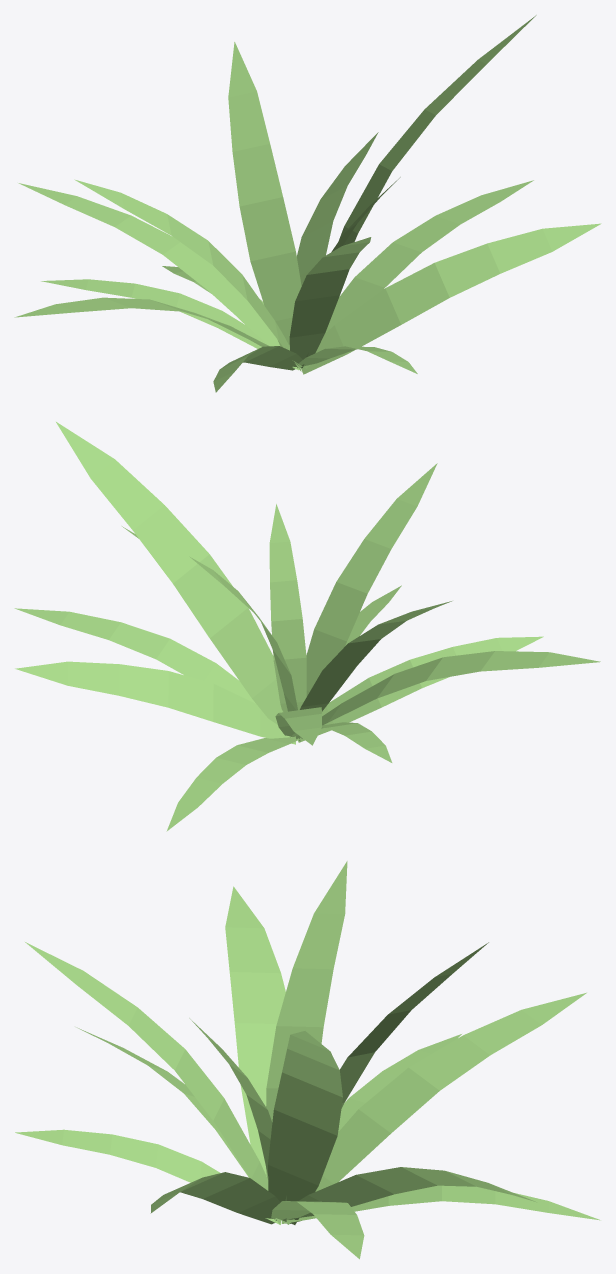
Rendered from Bush_01.fbx.
The picture shows the model from 3 angles, top to bottom: view 1: azimuth 30°, elevation 25°; view 2: azimuth 150°, elevation 25°; view 3: azimuth 270°, elevation 25°; orthographic projection. The views are drawn at different scales.
Visible parts, largest first — view 1: Bush_01; view 2: Bush_01; view 3: Bush_01.
Boxes of the visible parts, box(x1,y1,x2,y2) form: Bush_01: box(14, 15, 601, 392); Bush_01: box(14, 422, 600, 831); Bush_01: box(15, 861, 600, 1259).
Bounding box in the file's own units: 209 × 101 × 161.
